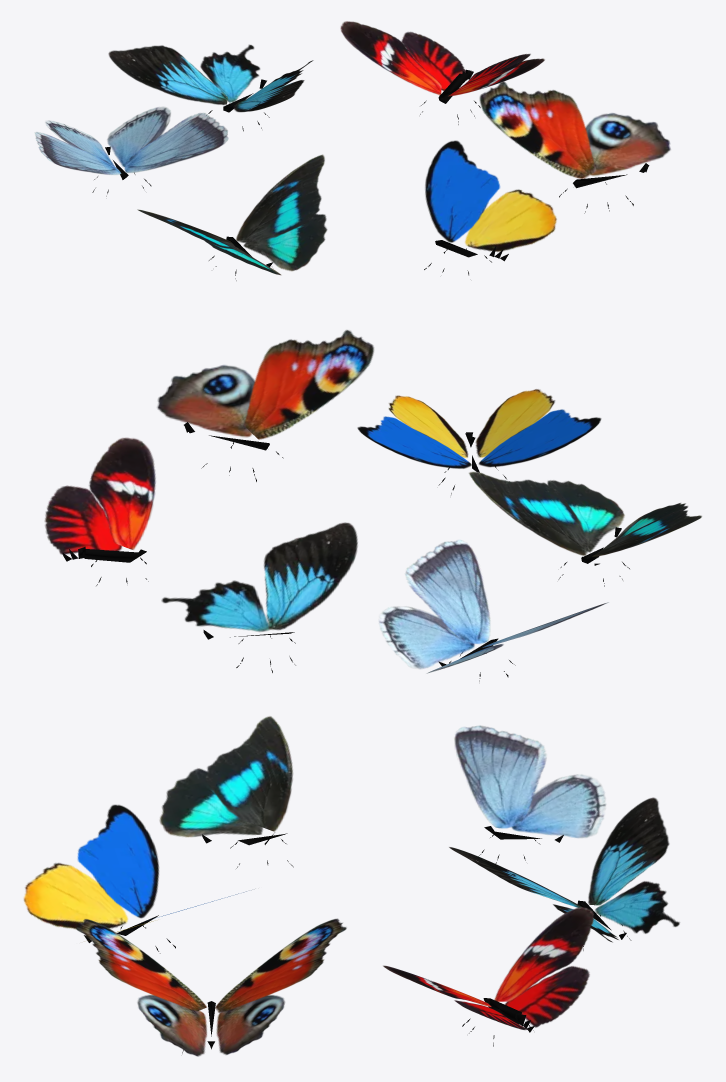
The model's file is Butterfly.glb.
The picture shows the model from 3 angles, top to bottom: view 1: azimuth 30°, elevation 25°; view 2: azimuth 150°, elevation 25°; view 3: azimuth 270°, elevation 25°; orthographic projection. The views are drawn at different scales.
Visible parts, largest first — view 1: Obj3d66-16079498-6-944, Obj3d66-16079498-3-849, Obj3d66-16079498-5-119, Obj3d66-16079498-2-232, Obj3d66-16079498-4-514, Obj3d66-16079498-7-123; view 2: Obj3d66-16079498-6-944, Obj3d66-16079498-3-849, Obj3d66-16079498-5-119, Obj3d66-16079498-2-232, Obj3d66-16079498-4-514, Obj3d66-16079498-7-123; view 3: Obj3d66-16079498-6-944, Obj3d66-16079498-3-849, Obj3d66-16079498-2-232, Obj3d66-16079498-5-119, Obj3d66-16079498-4-514, Obj3d66-16079498-7-123.
Boxes of the visible parts, bbox=[...] form: Obj3d66-16079498-6-944: bbox=[479, 81, 670, 178]; Obj3d66-16079498-3-849: bbox=[92, 69, 649, 280]; Obj3d66-16079498-5-119: bbox=[425, 140, 556, 251]; Obj3d66-16079498-2-232: bbox=[35, 106, 228, 174]; Obj3d66-16079498-4-514: bbox=[108, 44, 313, 112]; Obj3d66-16079498-7-123: bbox=[340, 21, 544, 96]; Obj3d66-16079498-6-944: bbox=[157, 330, 373, 439]; Obj3d66-16079498-3-849: bbox=[62, 422, 701, 681]; Obj3d66-16079498-5-119: bbox=[357, 389, 601, 468]; Obj3d66-16079498-2-232: bbox=[379, 539, 608, 673]; Obj3d66-16079498-4-514: bbox=[161, 522, 357, 631]; Obj3d66-16079498-7-123: bbox=[44, 437, 155, 554]; Obj3d66-16079498-6-944: bbox=[76, 918, 346, 1056]; Obj3d66-16079498-3-849: bbox=[84, 716, 631, 1053]; Obj3d66-16079498-2-232: bbox=[454, 725, 606, 838]; Obj3d66-16079498-5-119: bbox=[23, 804, 246, 940]; Obj3d66-16079498-4-514: bbox=[449, 797, 679, 942]; Obj3d66-16079498-7-123: bbox=[383, 907, 593, 1030].
Bounding box in the file's own units: 1.16 × 0.1897 × 1.17.
7 materials, 6 textured.
